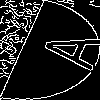A: (25, 25, 100, 71)
